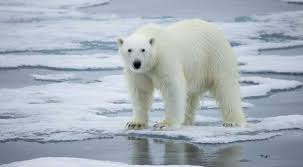PolarBear: (106, 15, 252, 133)
